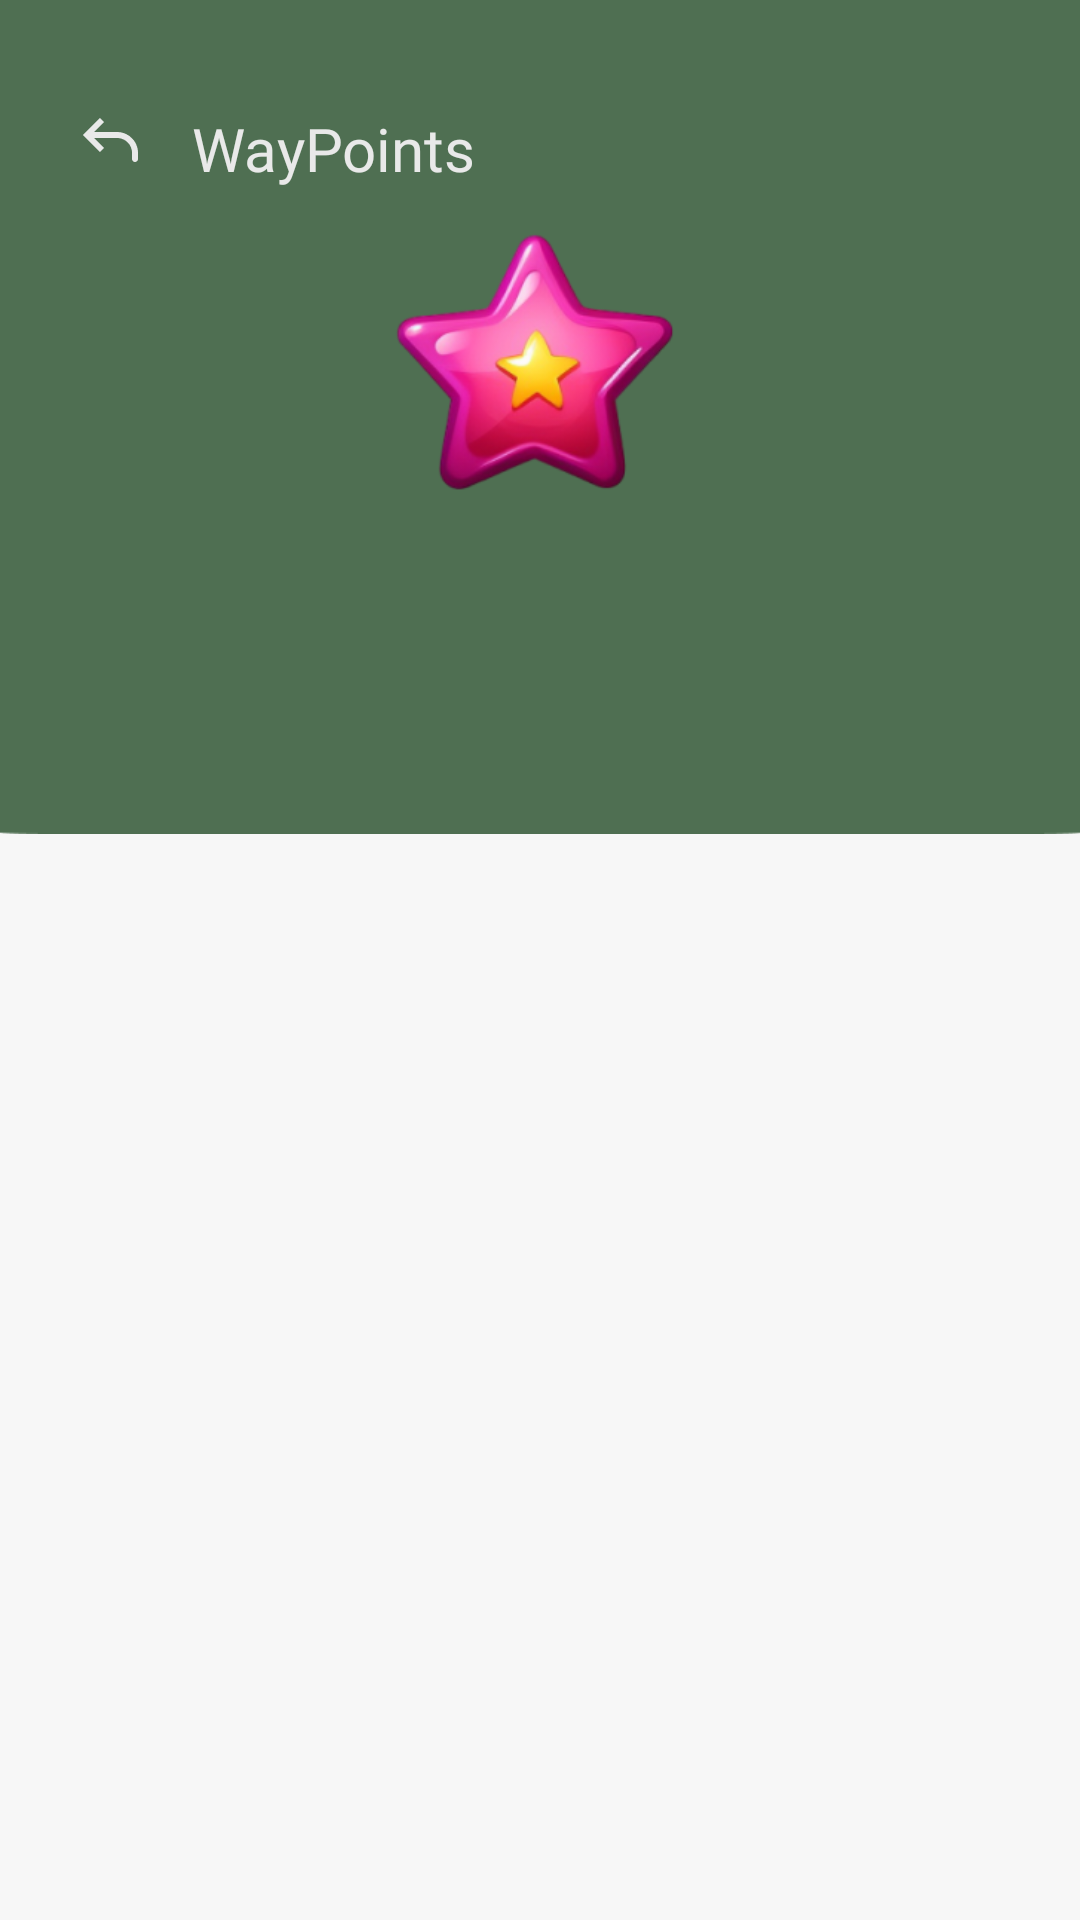

Screen size 1080x1920. Icon name, then its box in pixels as (x1, y1, x2, y2):
back: (83, 118, 138, 162)
